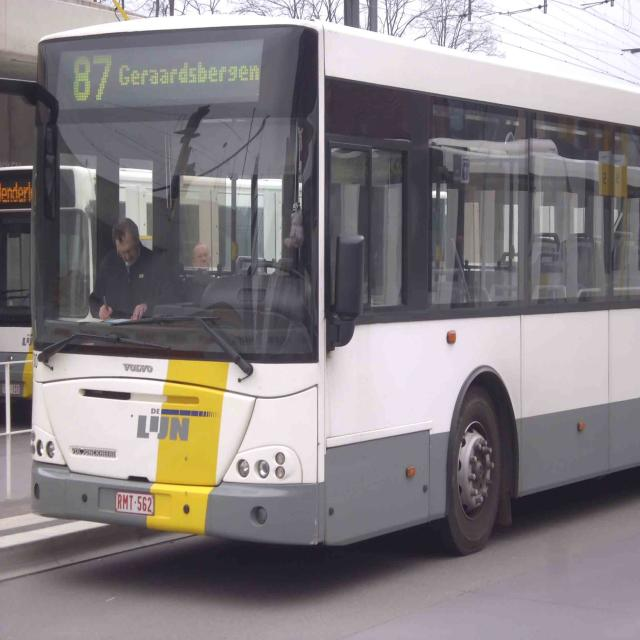bus-number: (68, 50, 114, 106)
